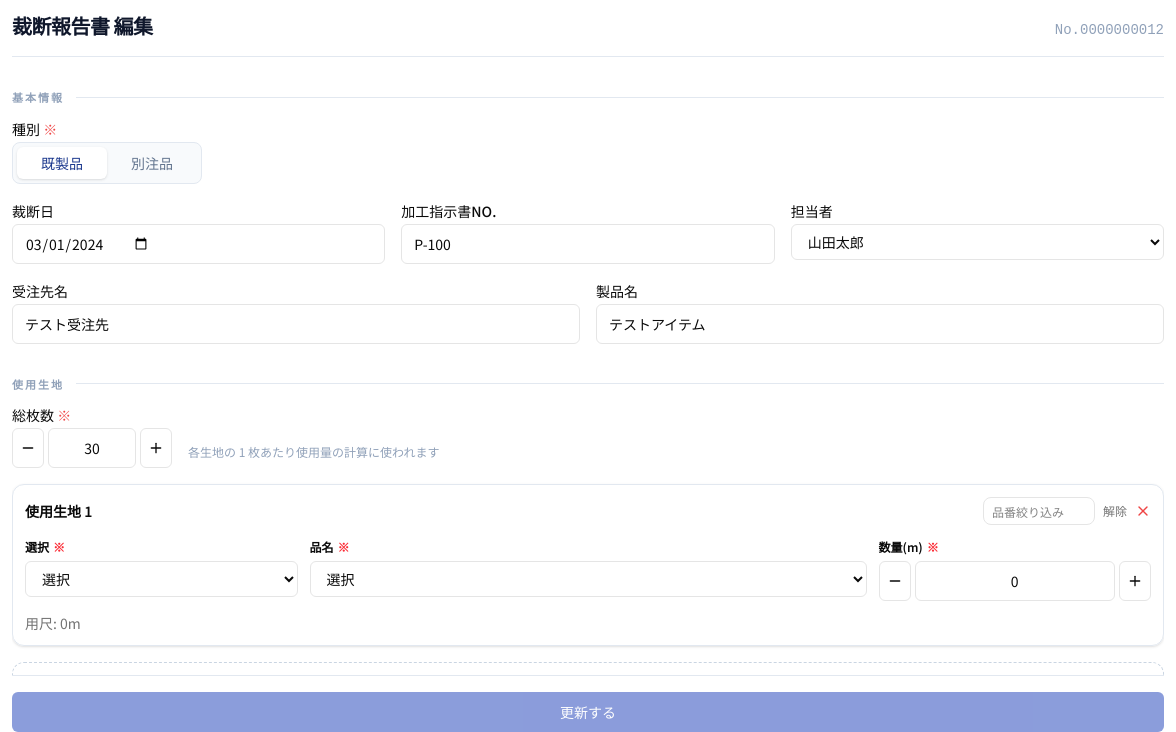
Test: CuttingReportForm › 使用生地の行をすべて削除すると追加を促すメッセージを表示する
Click the button named "使用生地 1 を削除" at (1143, 511), box 1135,503 -> 1151,519
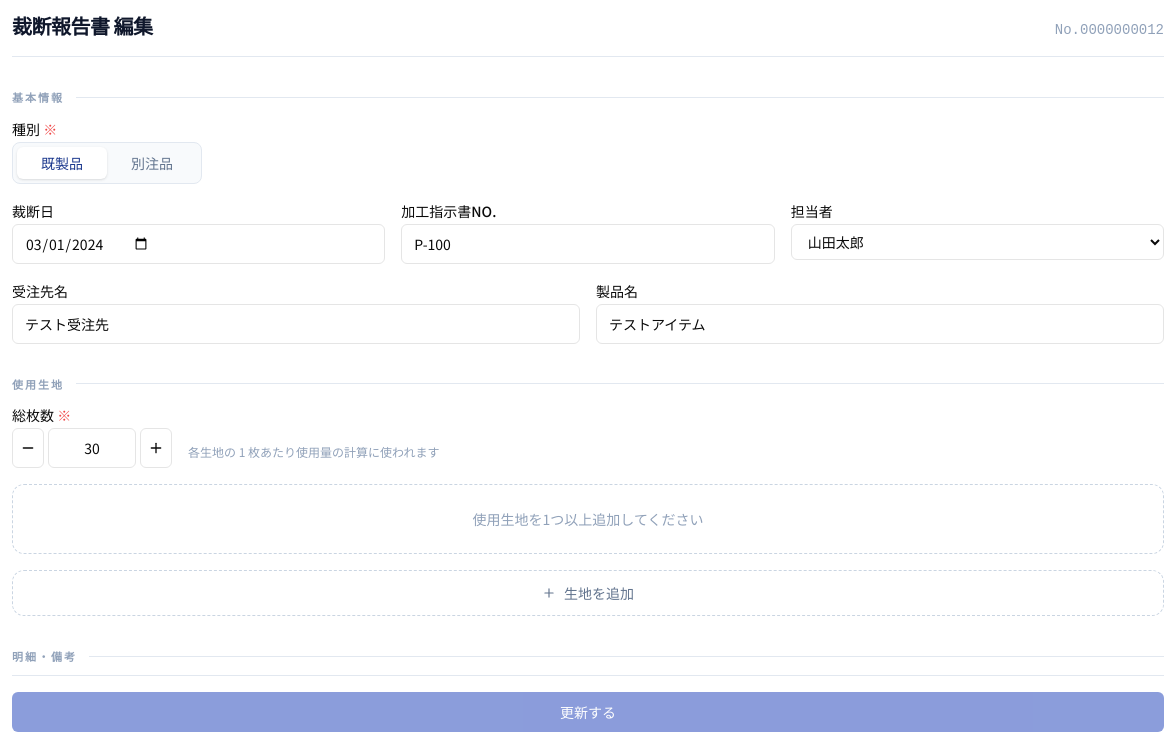
Expected: the text "使用生地を1つ以上追加してください" is shown, 12,484 -> 1164,554
